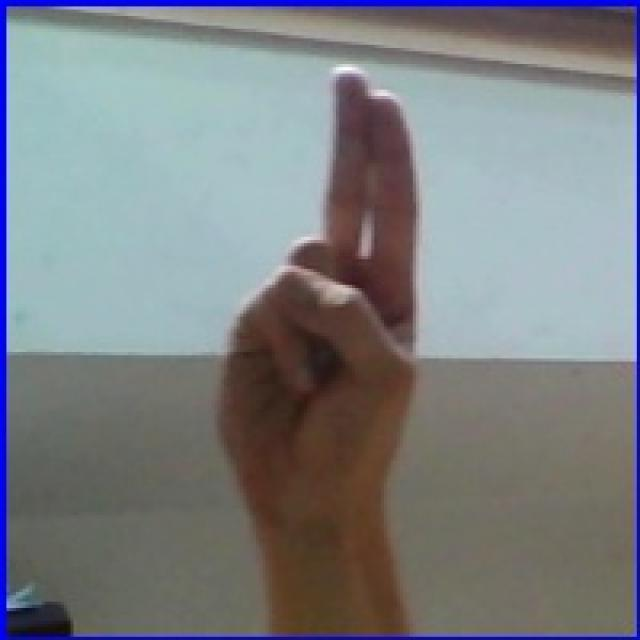Letra-U: (163, 42, 522, 534)
